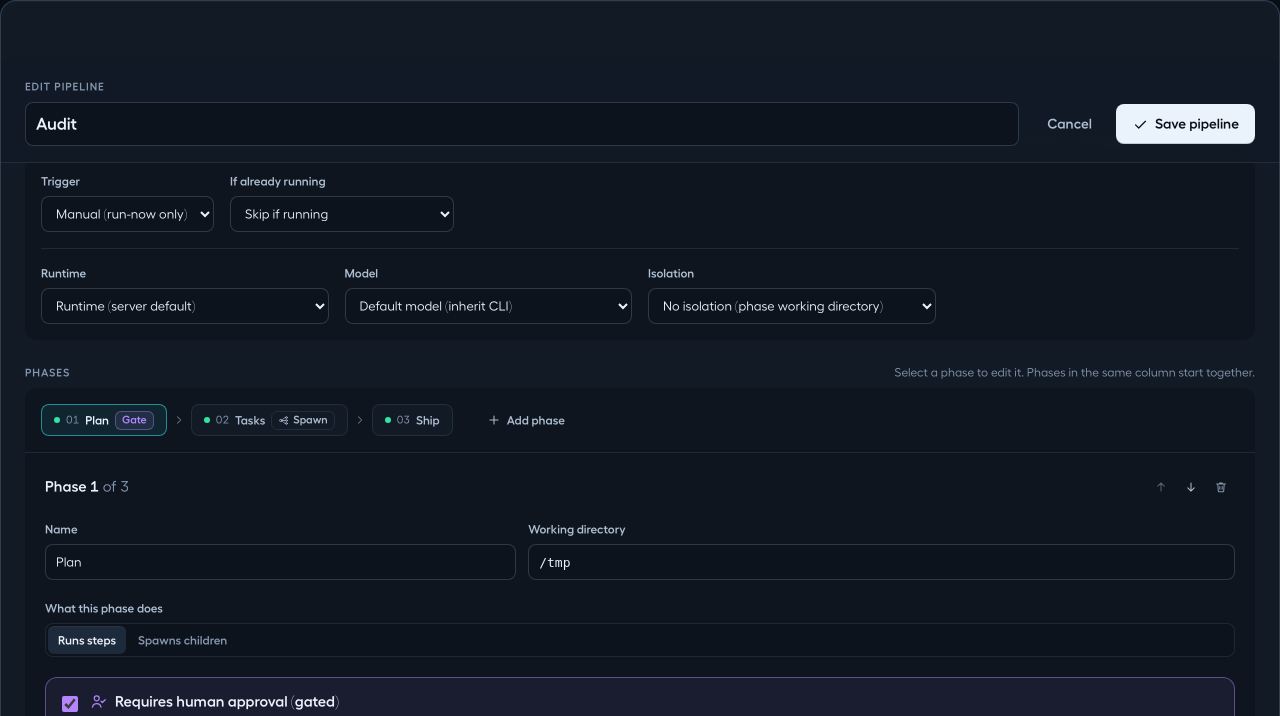
Scenario: authoring a spawn phase › names a child pipeline that is no longer listed
Step 1. Click the button with aria-label "Phase 2: Tasks" → (269, 420), box 191,404 -> 348,436
(page scrolled)
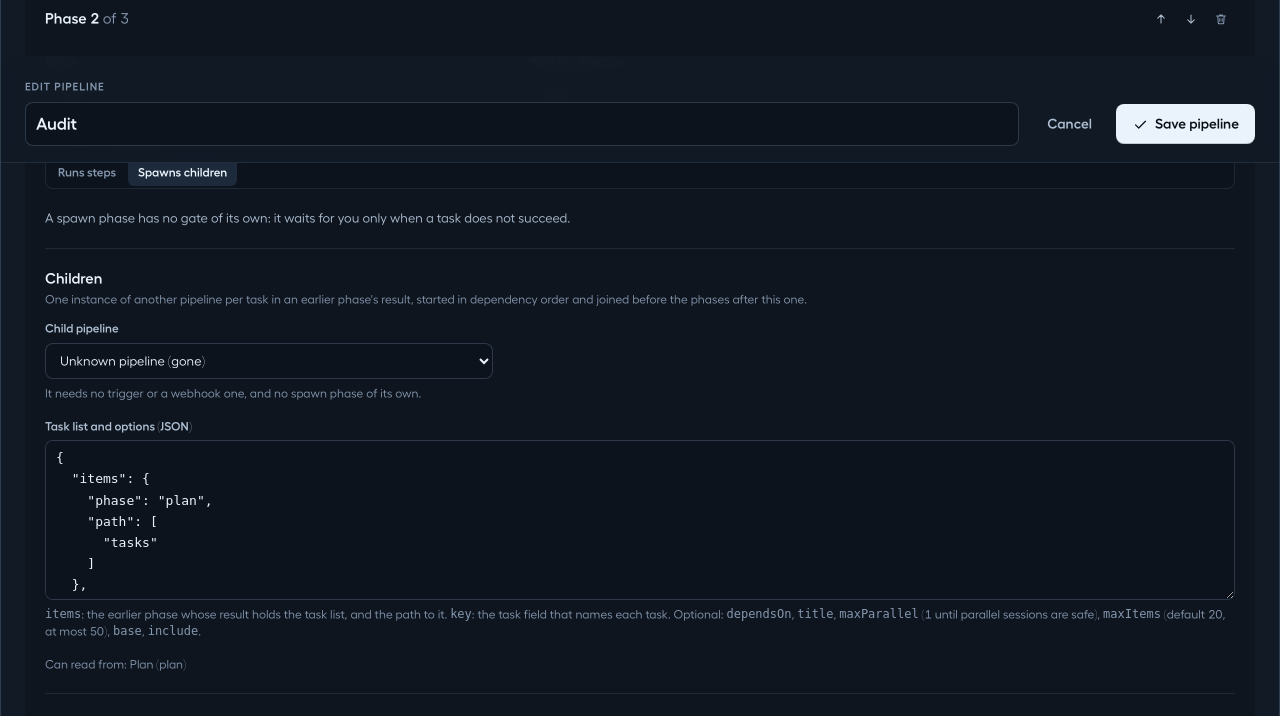
Check: the dropdown named "Child pipeline (phase 2)" shows "Unknown pipeline (gone)", box 45,343 -> 493,379
